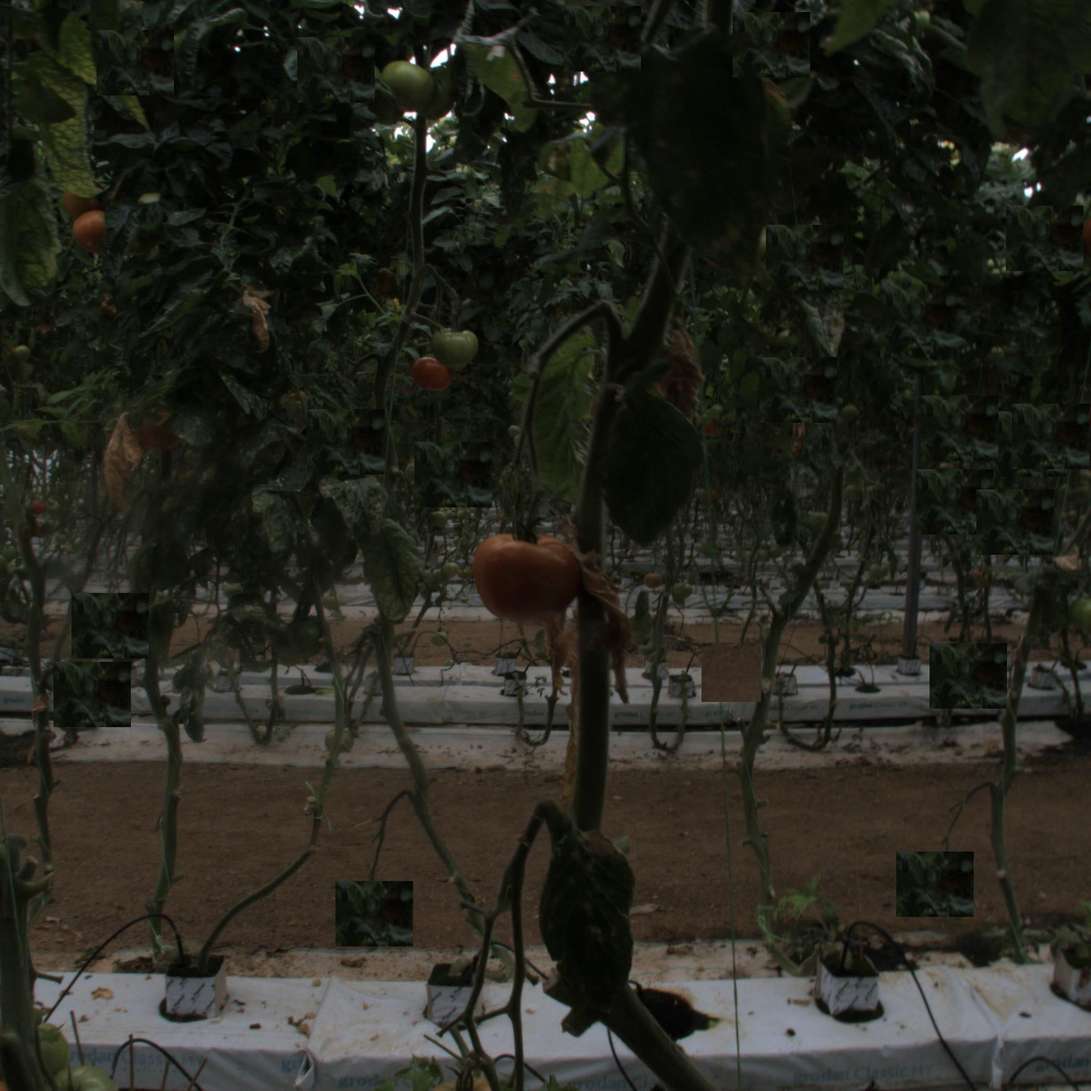fully-ripe: (478, 526, 580, 629), (68, 208, 112, 253), (411, 353, 452, 394)
unripe: (380, 59, 430, 109), (434, 325, 479, 369)
